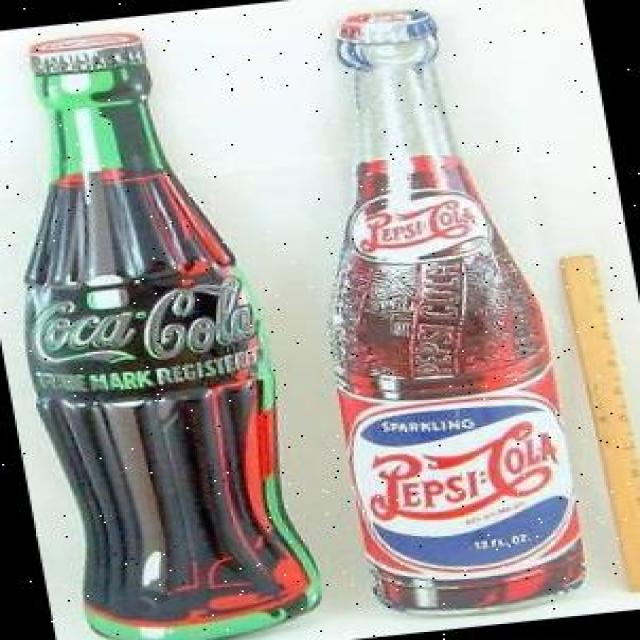coca-cola: (0, 14, 343, 639)
